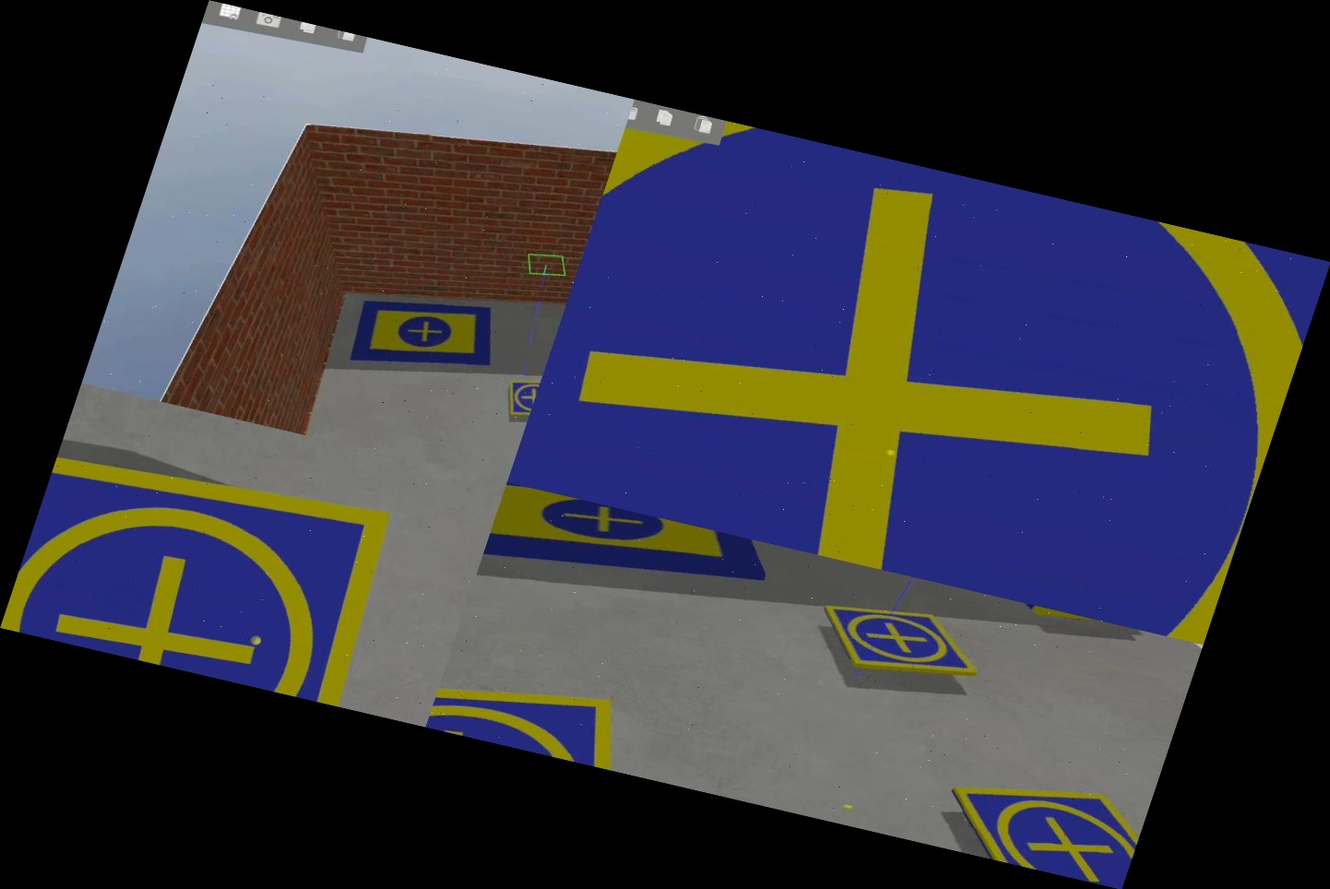large_base: (480, 482, 779, 628), (346, 280, 510, 391)
small_base: (506, 100, 1330, 645), (0, 436, 413, 709), (934, 757, 1150, 889), (805, 591, 994, 701), (498, 372, 541, 421)
